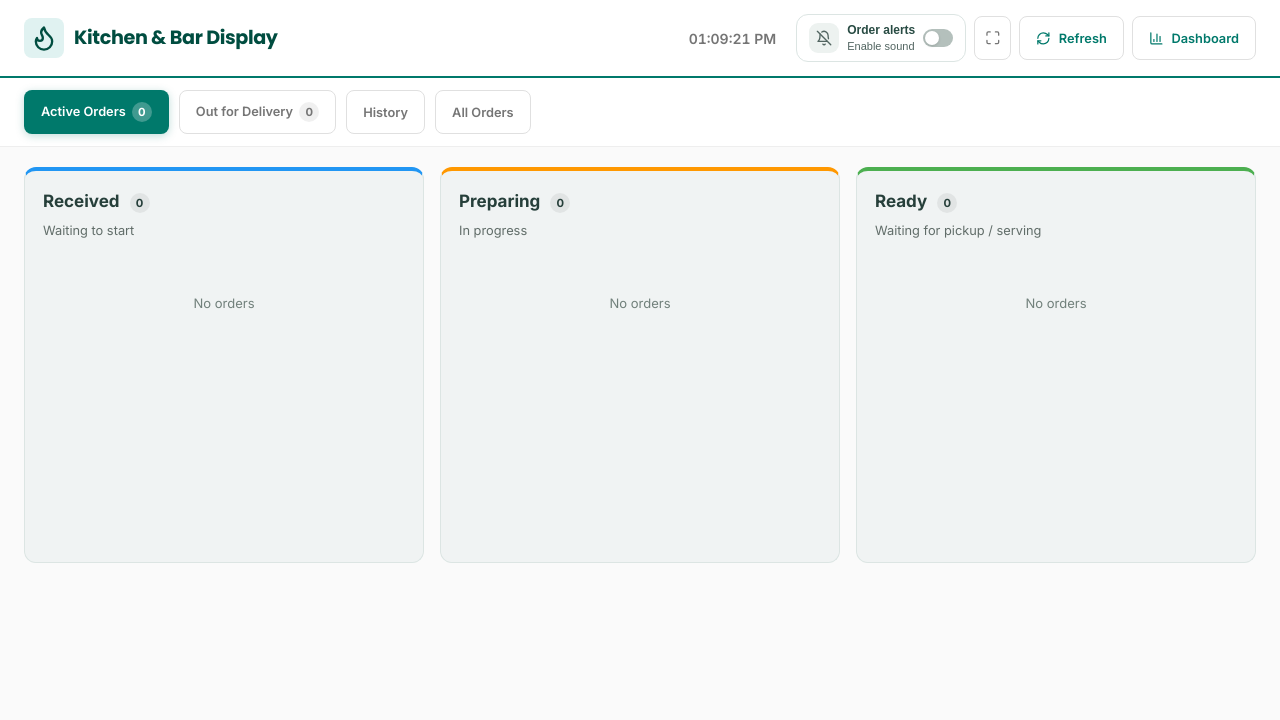
Test: history failures remain visible and Refresh retries the history request
The image size is (1280, 720).
Click the button "History" at (386, 112), box [346,90,425,134]
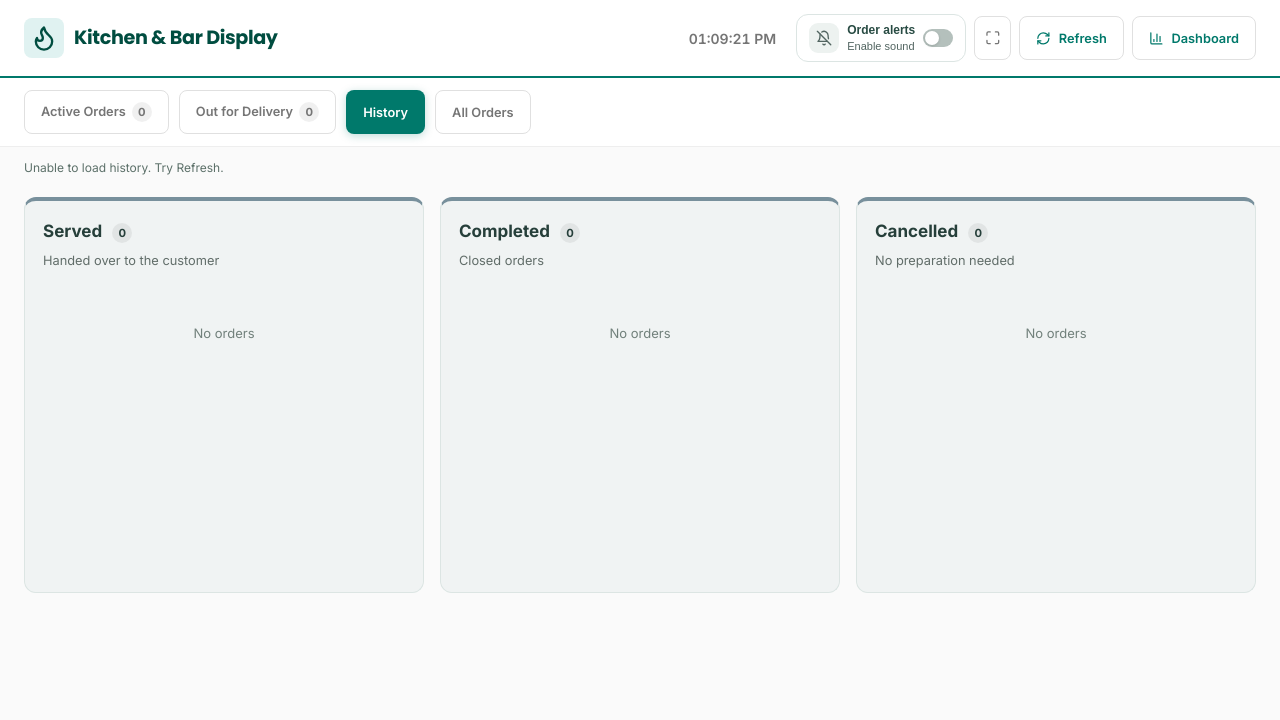
Check: the text "Unable to load history. Try Refresh." is shown, box [24,160,224,175]
Click the button "Refresh" at (1071, 38), box [1019,16,1124,60]
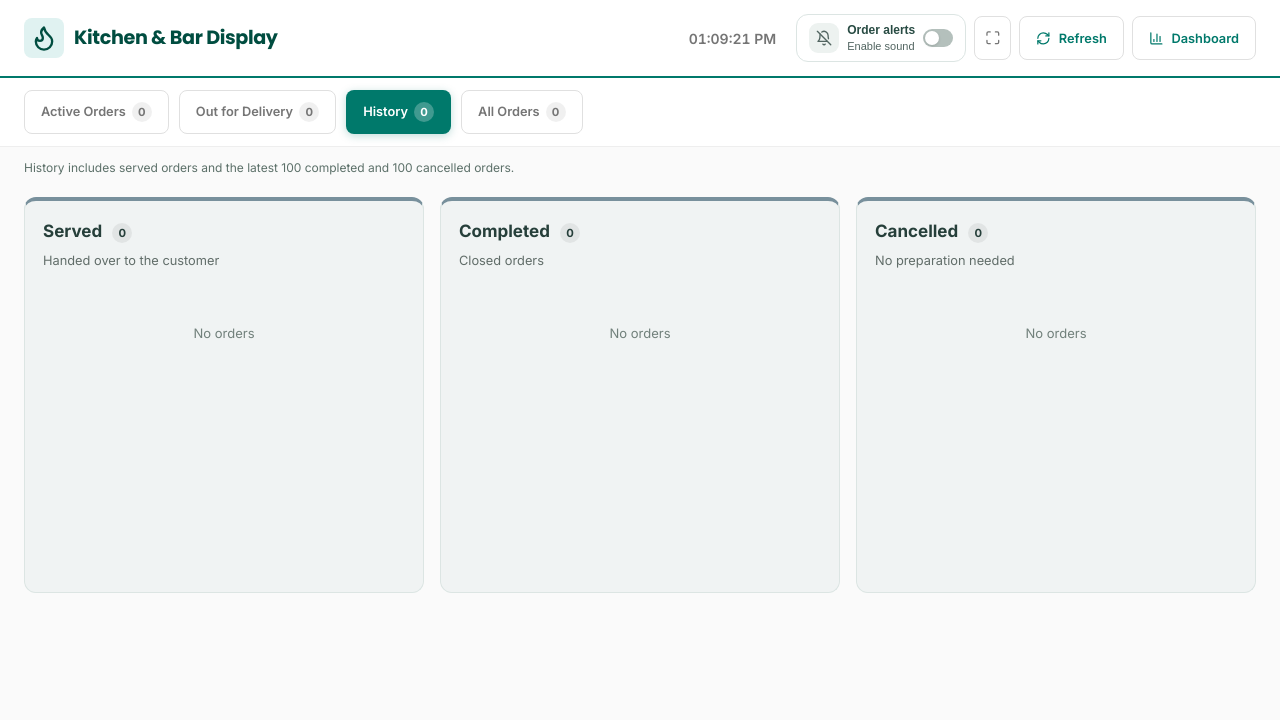
Check: the message shows "History includes served orders", box [24,160,514,175]
